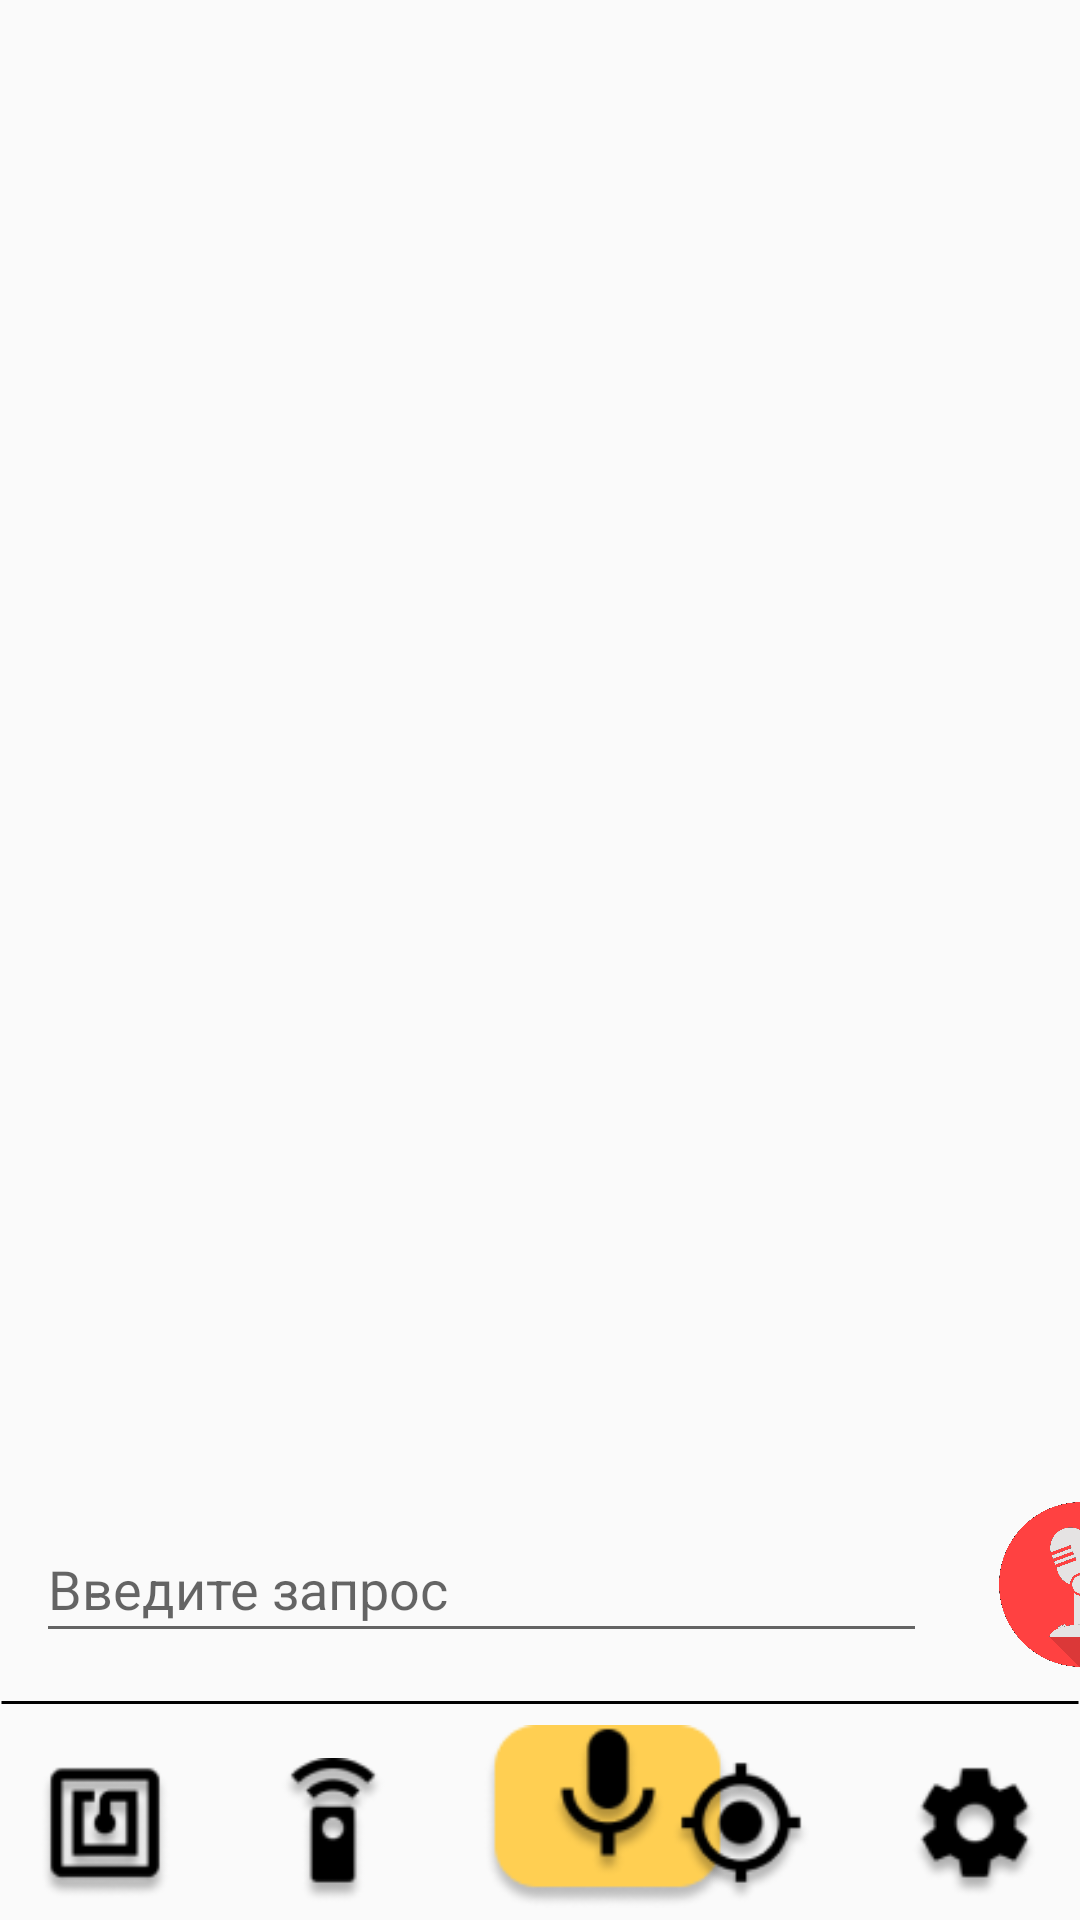

Point at icon controls on the screen. Image size 1080px×1920px, points as (x=x, y=y).
micro sh: (x=608, y=1806)
setting sh: (x=974, y=1828)
